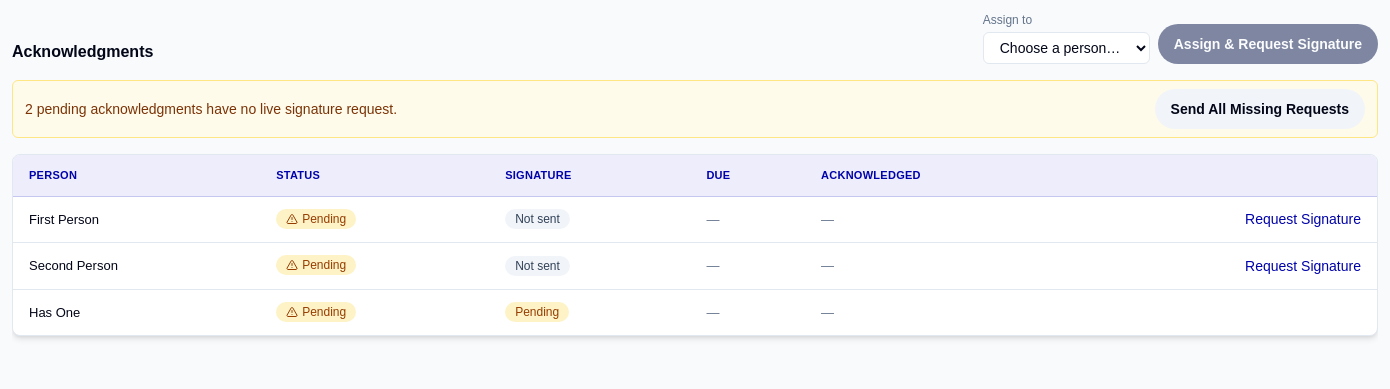
Test: MhdHandbookAckBoard — signature ceremony › sends every missing request one at a time and reports the ones that fail
Expected: the text "2 pending acknowledgments have no live signature request." is shown, [25, 99, 397, 119]
Step 1. Click the button "Send All Missing Requests" → click(1260, 109), box [1155, 89, 1365, 129]
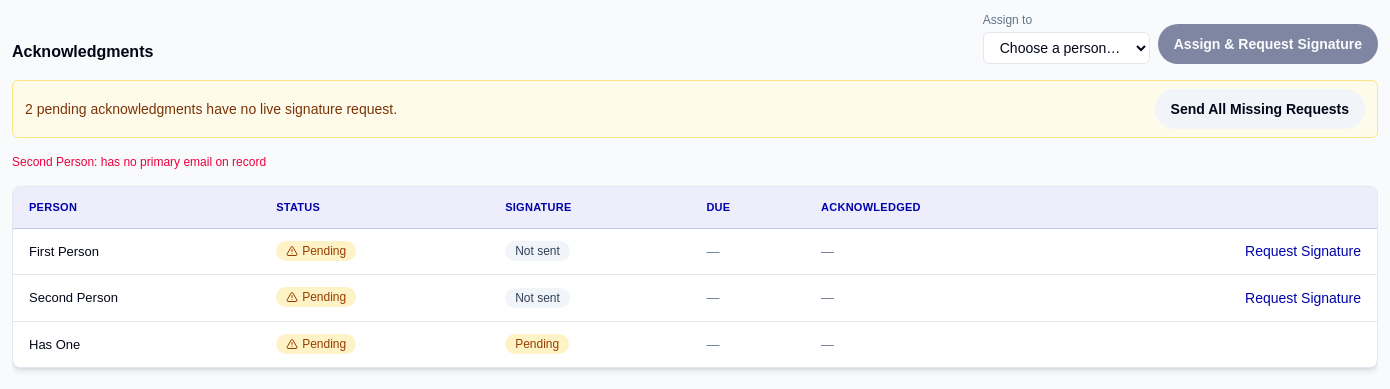
Now the text "Second Person: has no primary email on record" is shown, box [12, 155, 266, 169]
